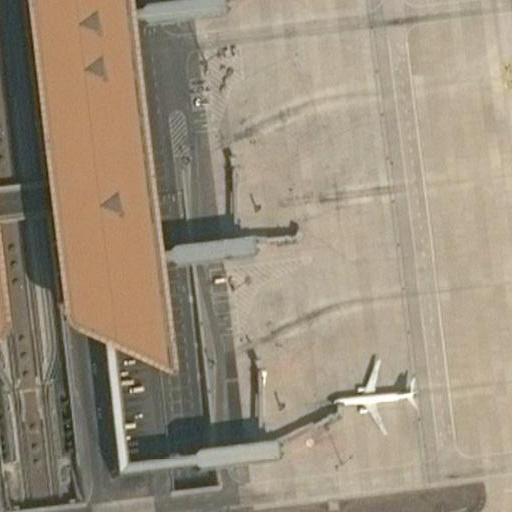Aircraft: (324, 359, 423, 423)
